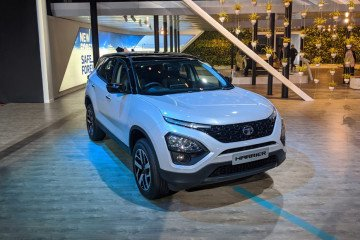car: (82, 48, 286, 194)
